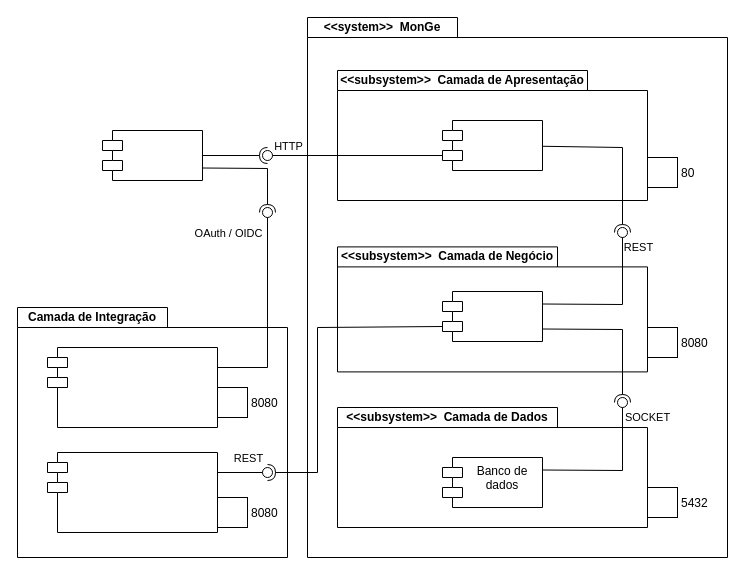
Image size: 745x575. Some labels were removed from this diagram. The centre of each missing label's shape, as x and y in pixels:
"<<external system>> SIGA" belongs at point 132,492.
"<<identity provider>> Autenticação Institucional" belongs at point 132,387.
"Backend Application" belongs at point 492,316.
"Frontend Application" belongs at point 492,145.
"Web browser" belongs at point 152,155.
